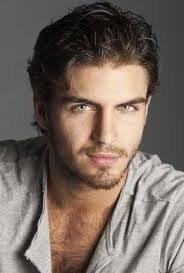Sober: (60, 68, 142, 181)
